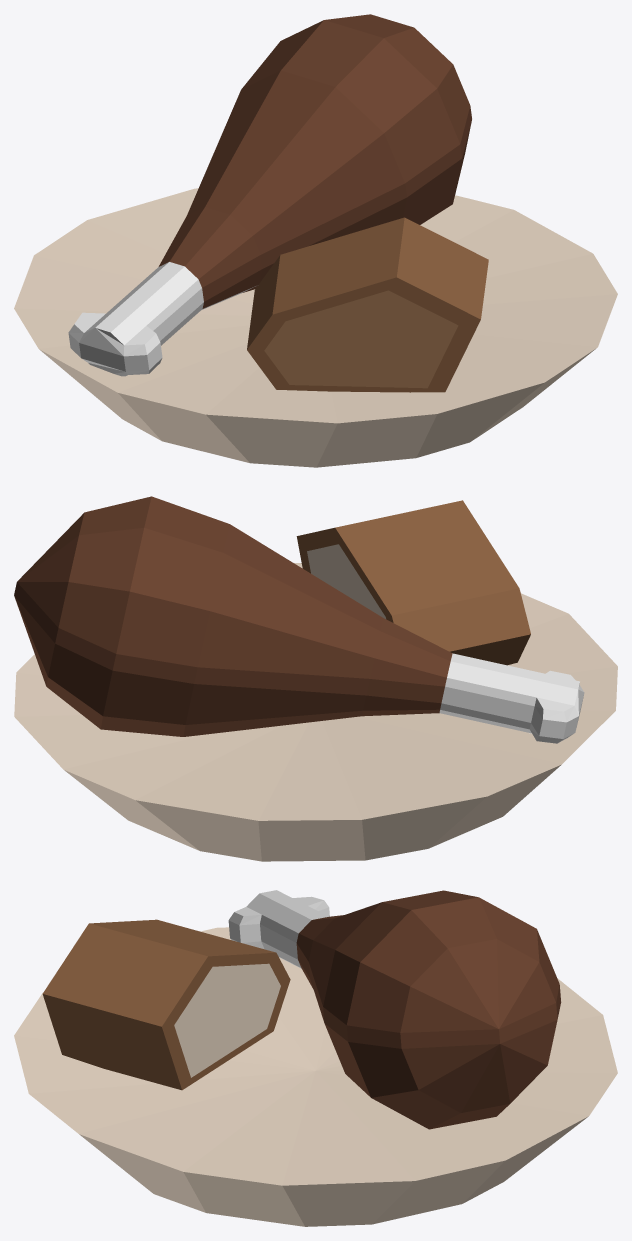
File: bowl_full.fbx
The picture shows the model from 3 angles, top to bottom: view 1: azimuth 30°, elevation 25°; view 2: azimuth 150°, elevation 25°; view 3: azimuth 270°, elevation 25°; orthographic projection.
Visible parts, largest first — view 1: plate; view 2: plate; view 3: plate.
Part boxes in pixels (box(x1,y1,x2,y2)): plate: box(14, 14, 617, 467); plate: box(14, 496, 617, 861); plate: box(14, 890, 617, 1226).
Size of the model in its own units: 78.75 by 40.72 by 78.75.
